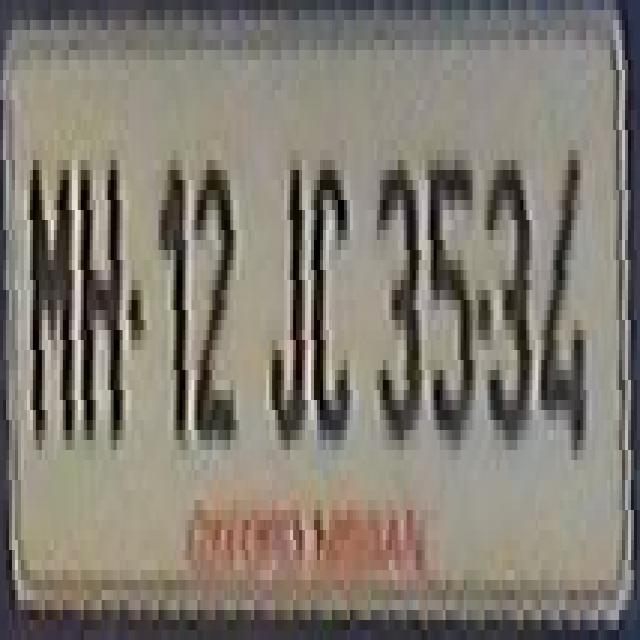license_plate: (0, 10, 610, 590)
